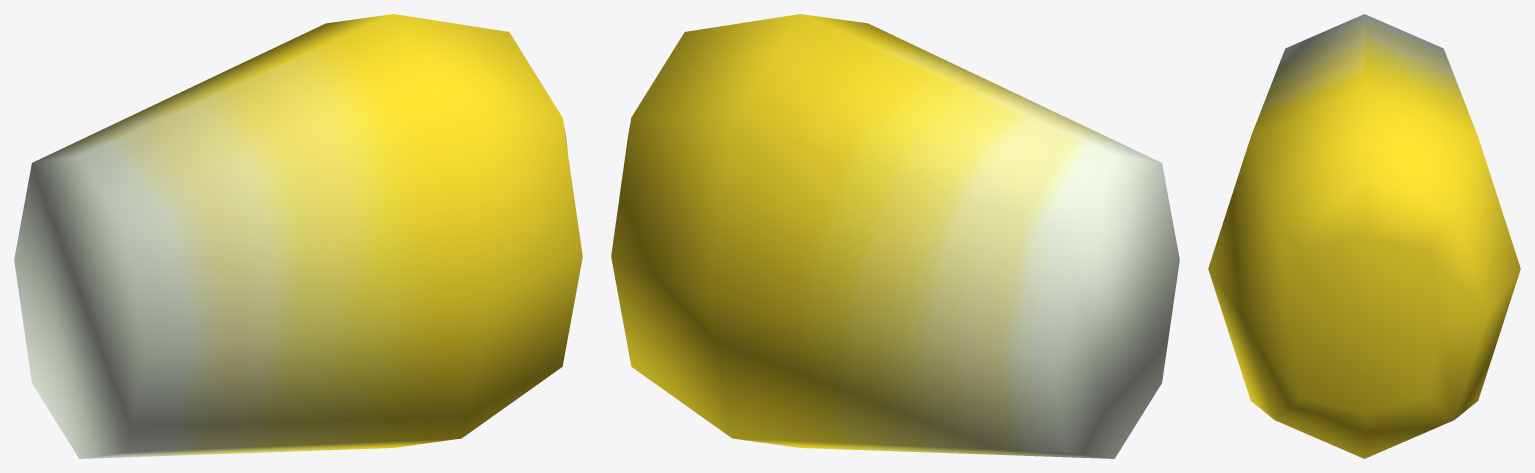
The model's file is misir_tane_toplanacak.fbx.
3 views of the same model, side by side, from view 1: azimuth 30°, elevation 25°; view 2: azimuth 150°, elevation 25°; view 3: azimuth 270°, elevation 25° (orthographic). The views are drawn at different scales.
Visible parts, largest first — view 1: misir_tane_high; view 2: misir_tane_high; view 3: misir_tane_high.
Boxes of the visible parts, <box> form: misir_tane_high: <box>14,14,582,458</box>; misir_tane_high: <box>611,14,1179,458</box>; misir_tane_high: <box>1208,14,1520,458</box>.
Size of the model in its own units: 3.42 by 3.09 by 2.41.
1 material, 1 textured.
